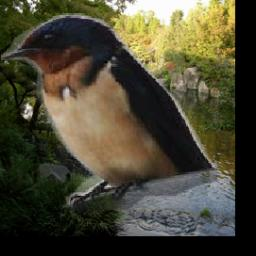Swallow: (2, 14, 218, 211)
